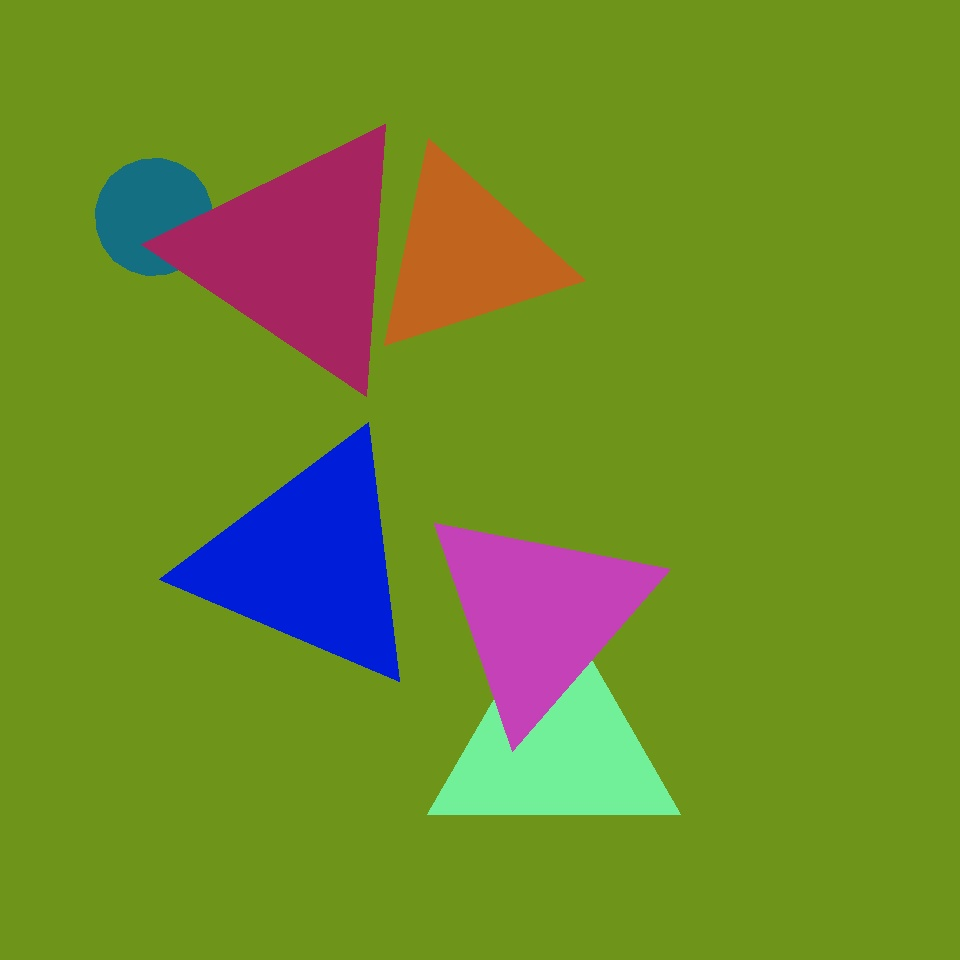circle: (179, 277, 432, 560), (176, 119, 420, 391), (189, 432, 429, 690), (427, 632, 680, 850), (421, 501, 657, 729), (366, 152, 566, 358)
square: (506, 266, 827, 587)
triangle: (85, 460, 429, 804), (156, 612, 390, 847), (157, 628, 349, 820), (96, 158, 213, 276)
